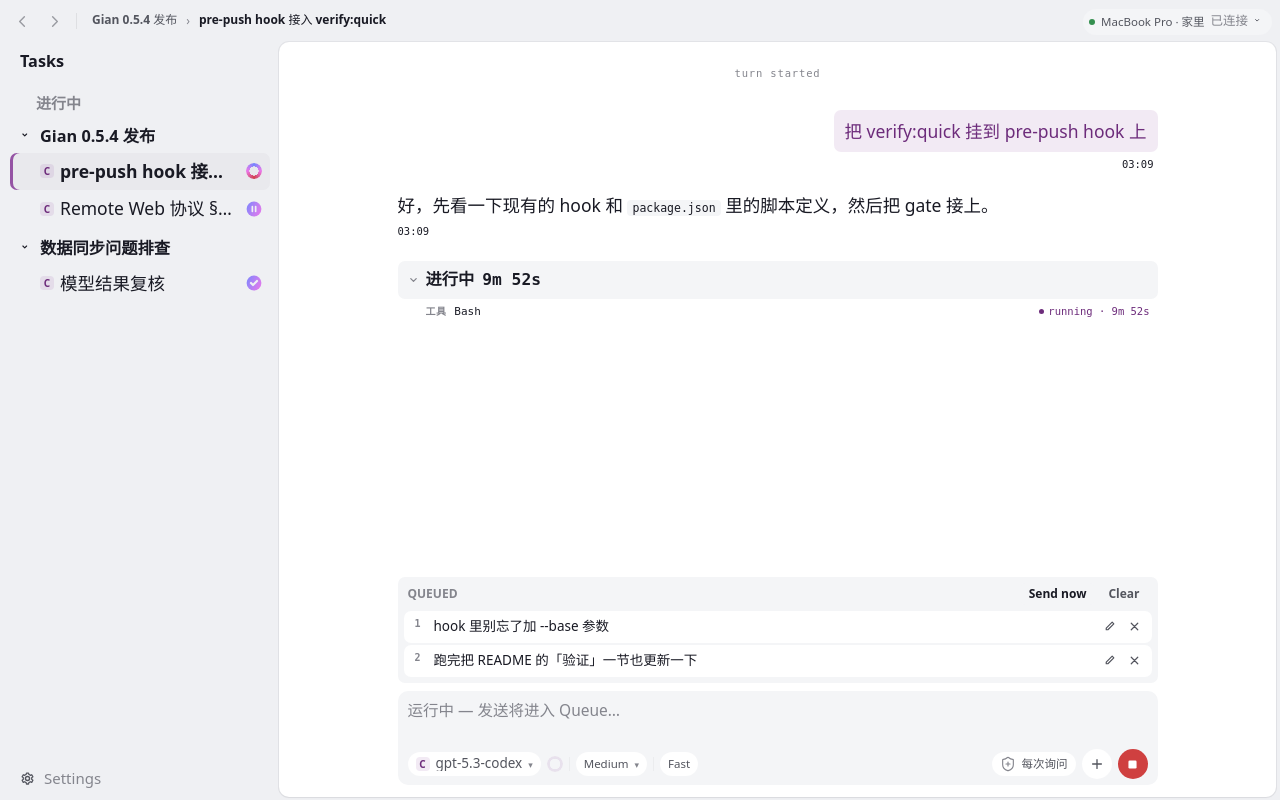
Test: queue UI (B6) › remove / clear / send now map to their commands
Click the button named "Remove" in the row of "hook 里别忘了加 --base 参数".
click(1134, 626)  # box [1122,616,1146,638]
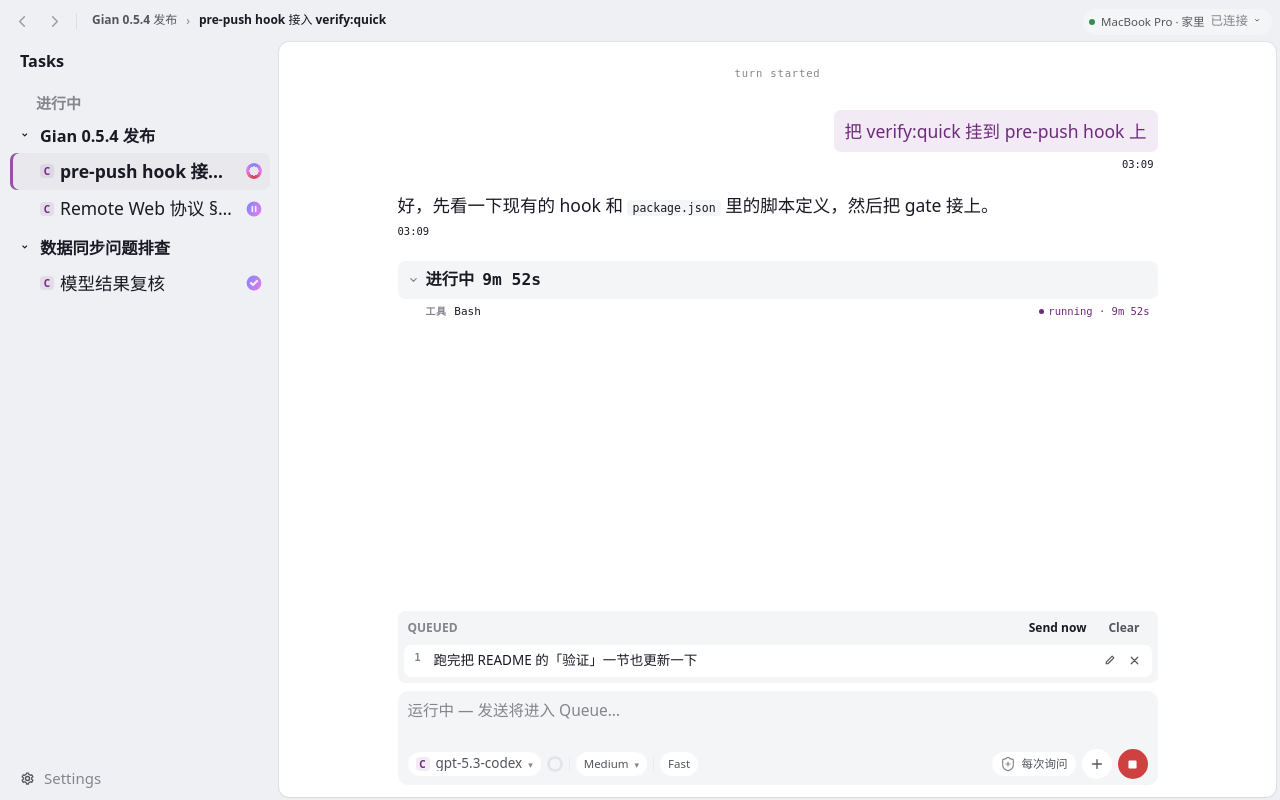
Click the button "Send now".
click(1058, 628)  # box [1021,616,1094,638]
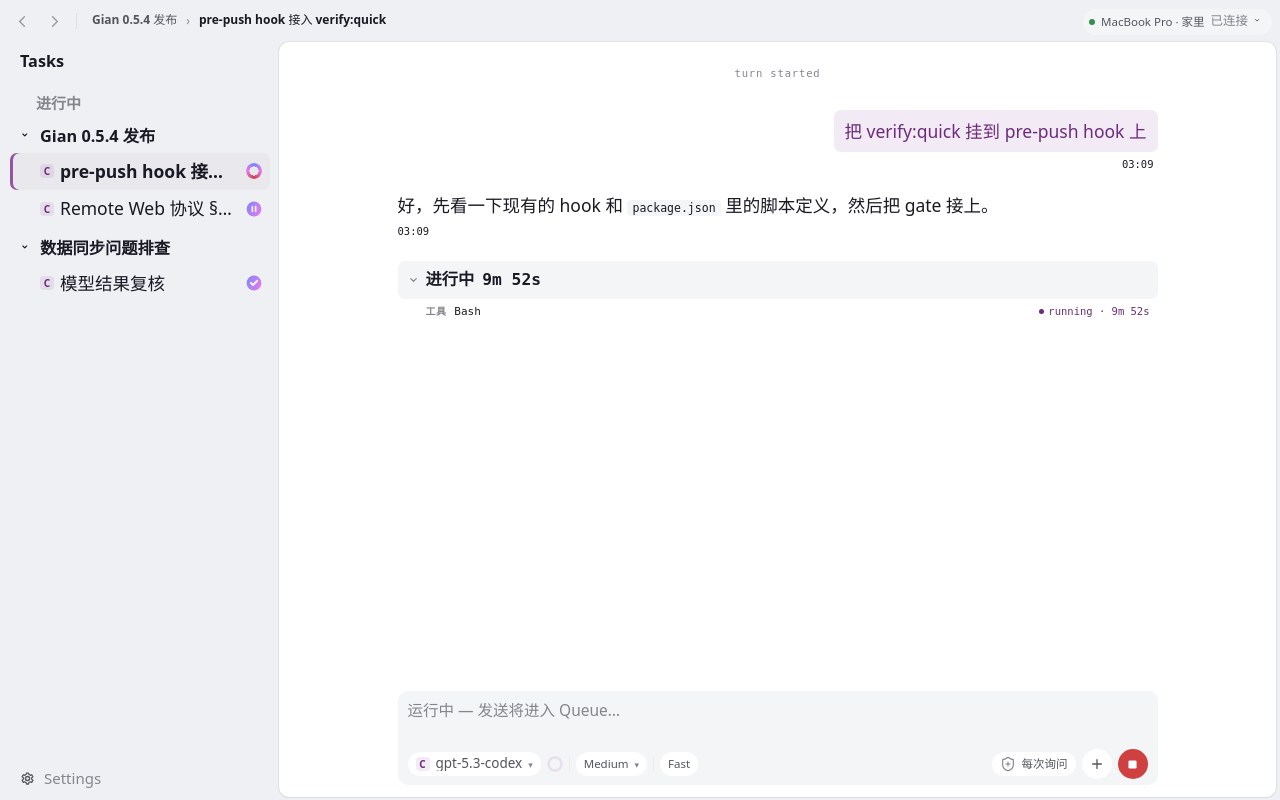
Expected: the element with test id "queue-drawer" is gone
